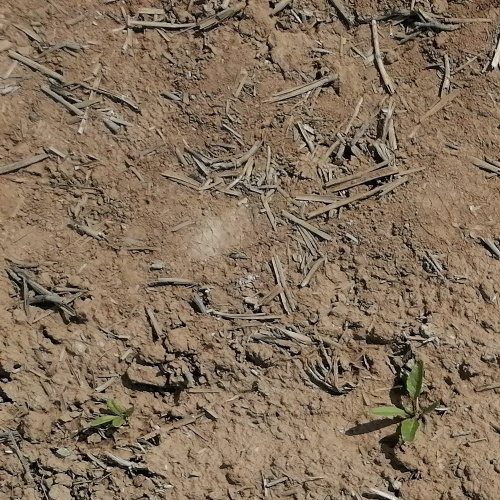beet: (370, 357, 438, 441), (88, 401, 133, 430)
